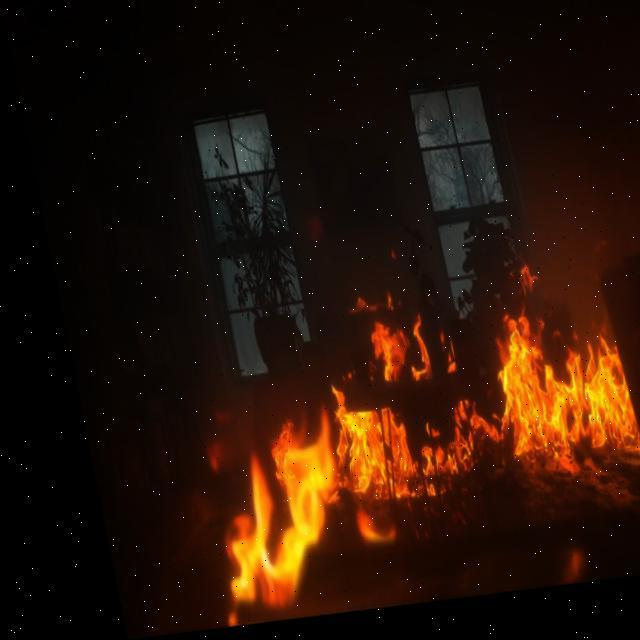Fire: (295, 276, 619, 508), (180, 434, 337, 616)
